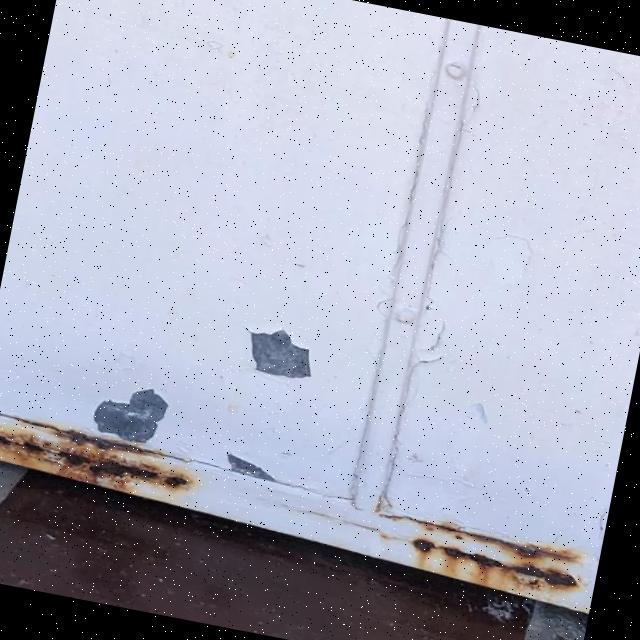Corrosion: (0, 404, 199, 504), (386, 512, 590, 603), (242, 322, 318, 382)
